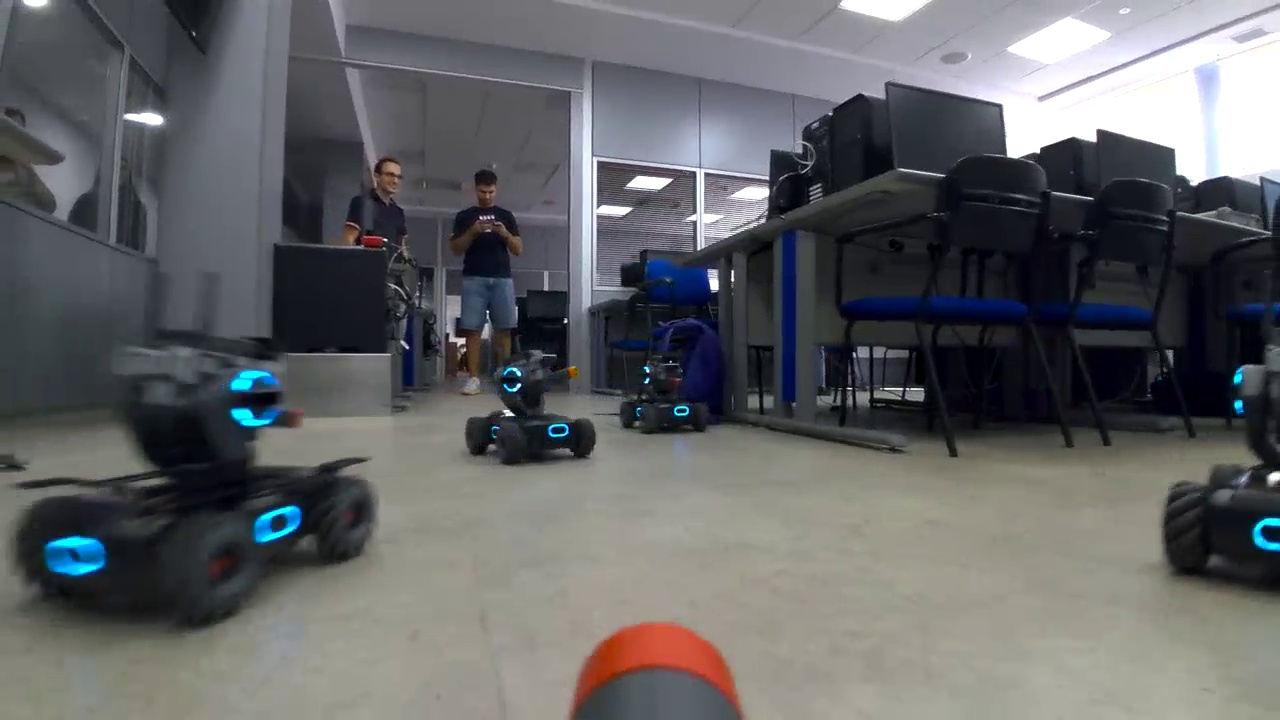robot: (9, 317, 383, 629), (1159, 329, 1280, 615), (459, 346, 602, 467), (618, 354, 711, 444)
